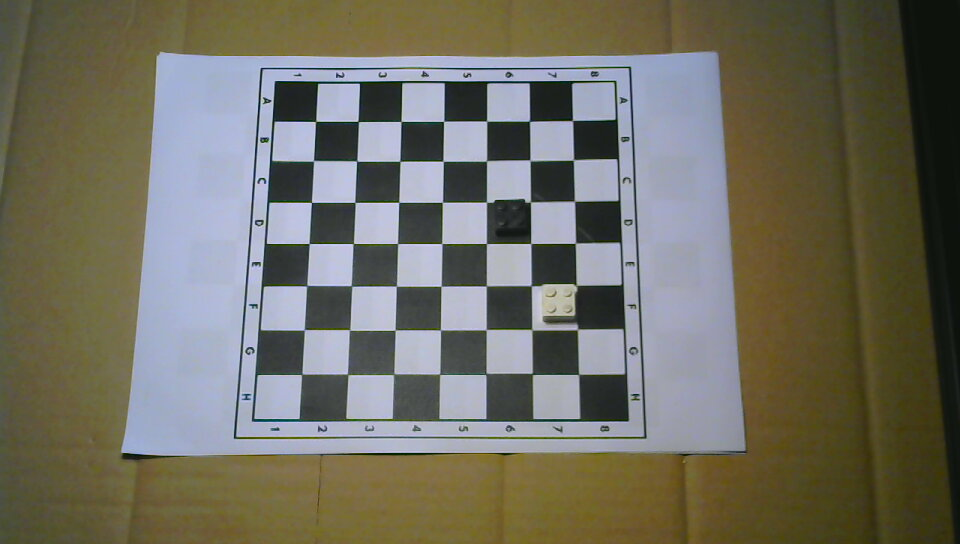bp: (491, 198, 530, 238)
wp: (540, 283, 578, 322)
